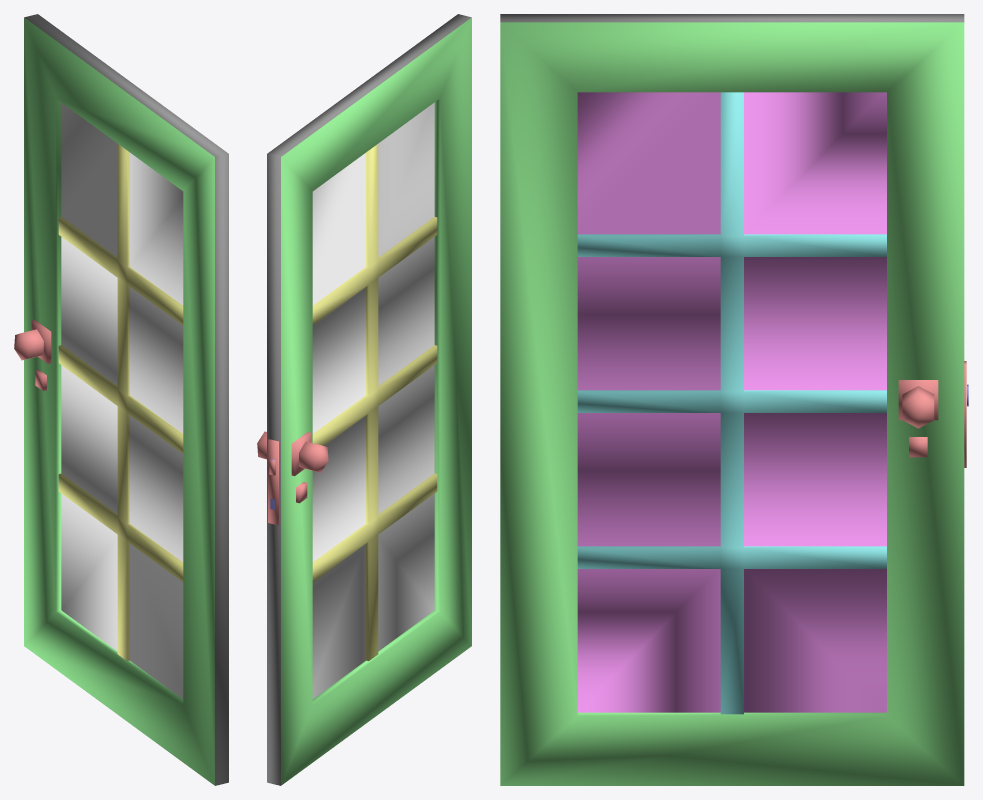
The model's file is SM_doorHouse_02.gltf.
3 views of the same model, side by side, from view 1: azimuth 30°, elevation 25°; view 2: azimuth 150°, elevation 25°; view 3: azimuth 270°, elevation 25° (orthographic). The views are drawn at different scales.
Parts seen in each view (by area): view 1: SM_doorHouse_02; view 2: SM_doorHouse_02; view 3: SM_doorHouse_02.
Boxes of the visible parts, x1,y1,x2,y2 form: SM_doorHouse_02: (14,14,228,785); SM_doorHouse_02: (257,14,471,785); SM_doorHouse_02: (500,14,968,785).
Bounding box in the file's own units: 0.2595 × 2.18 × 1.21.
